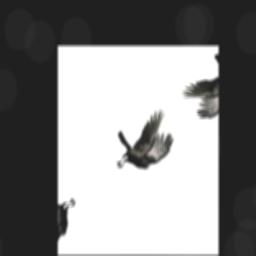Crow: (103, 100, 182, 188)
